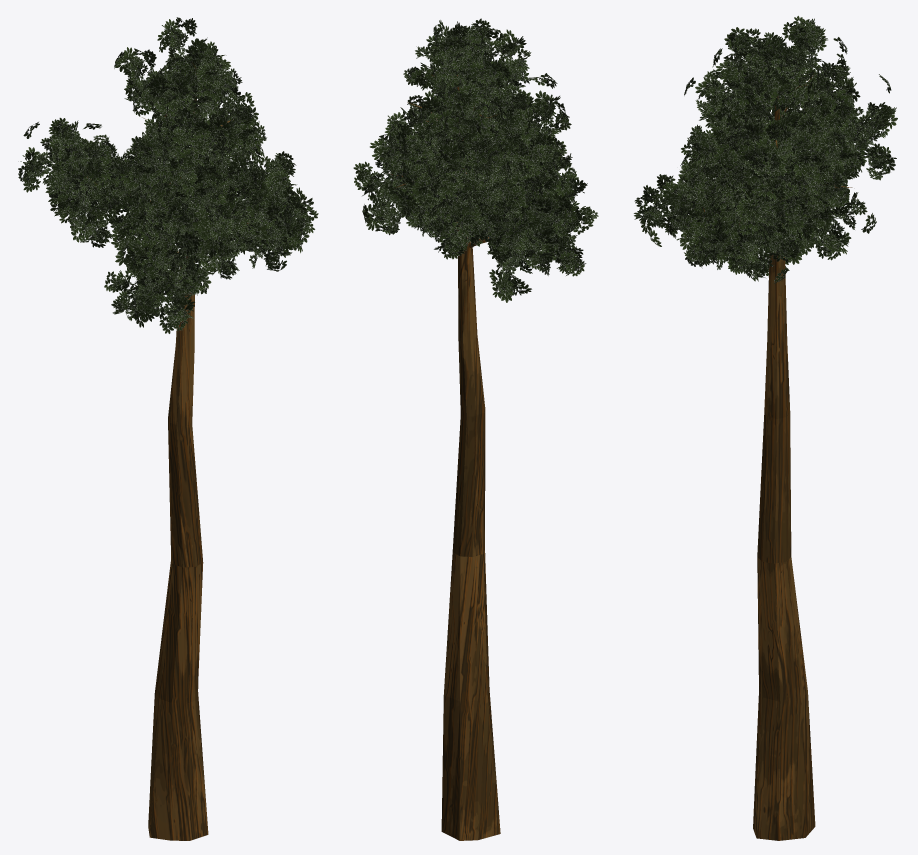
Rendered from Ulin.fbx.
3 renders of one model, left to right at view 1: azimuth 30°, elevation 25°; view 2: azimuth 150°, elevation 25°; view 3: azimuth 270°, elevation 25°, orthographic.
Visible parts, largest first — view 1: Plane.002; view 2: Plane.002; view 3: Plane.002.
Boxes of the visible parts, <box> form: Plane.002: <box>18,17,318,840</box>; Plane.002: <box>353,18,598,840</box>; Plane.002: <box>633,15,897,840</box>.
Bounding box in the file's own units: 1081 × 3487 × 1060.
